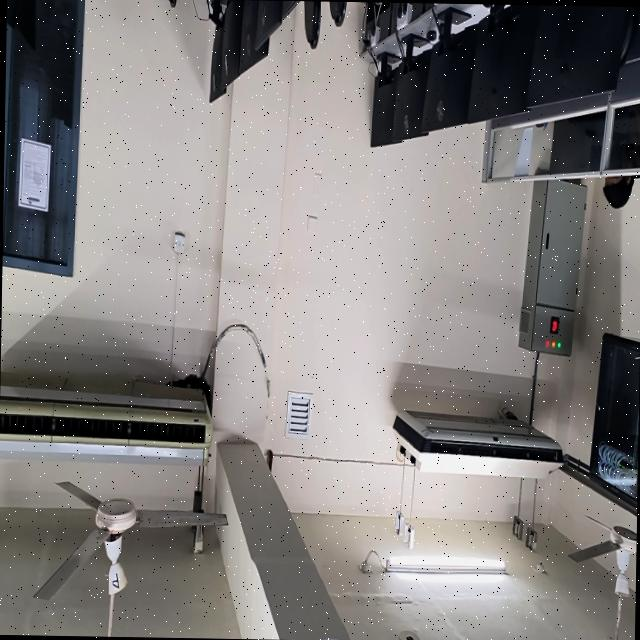Ac: (0, 381, 211, 464), (391, 410, 564, 477)
Chair: (302, 0, 319, 47), (328, 0, 345, 25), (167, 0, 175, 6)
Light: (357, 549, 506, 573)
Monitor: (526, 4, 632, 107), (466, 3, 539, 120), (420, 8, 477, 130), (546, 104, 629, 171), (391, 34, 427, 140), (370, 52, 395, 145), (238, 0, 267, 72), (220, 0, 243, 85), (206, 0, 225, 101), (253, 0, 281, 48), (13, 0, 36, 48), (281, 0, 299, 17), (5, 0, 13, 25)
Mouse: (425, 29, 435, 42)
